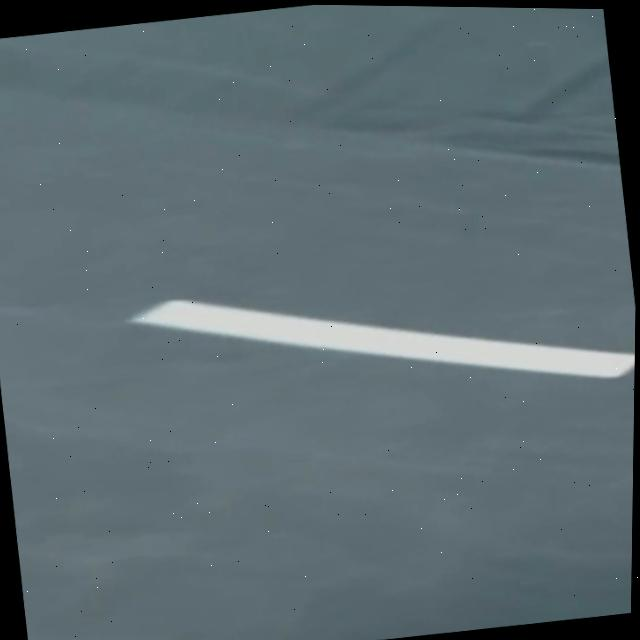center: (130, 298, 635, 375)
